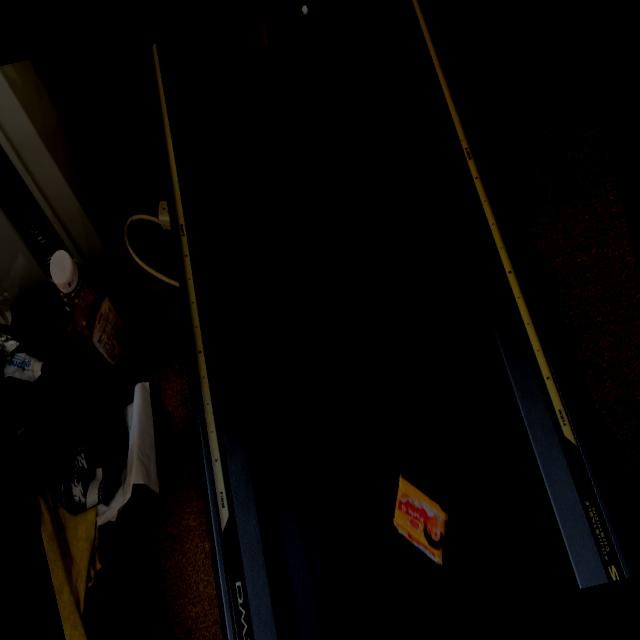Trash: (245, 0, 353, 129), (380, 458, 462, 578)
